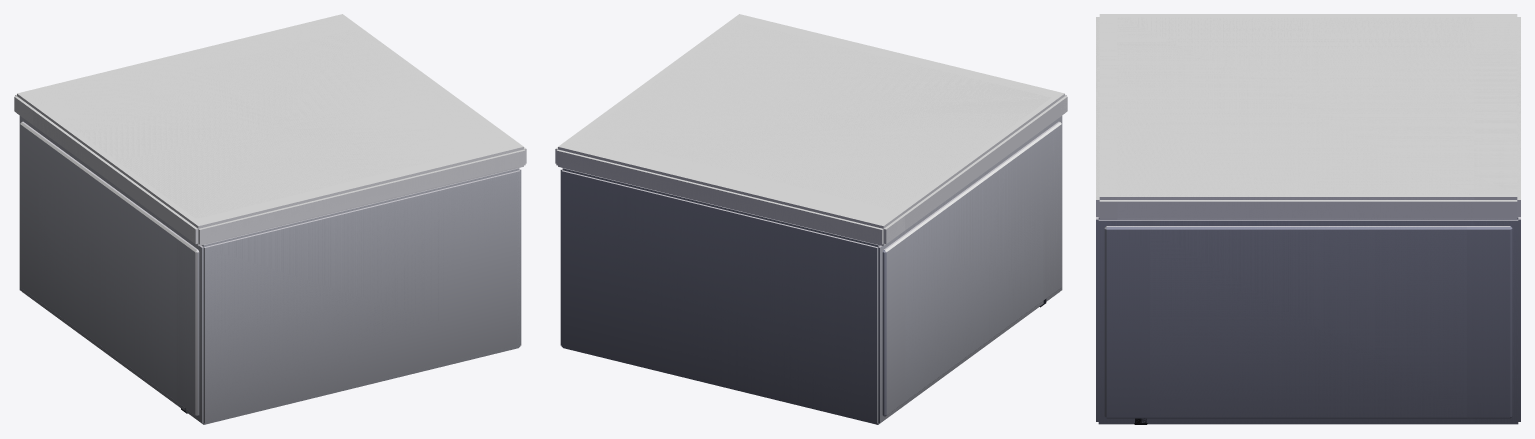
The model's file is counter_center_set.glb.
3 renders of one model, left to right at view 1: azimuth 30°, elevation 25°; view 2: azimuth 150°, elevation 25°; view 3: azimuth 270°, elevation 25°, orthographic. The views are drawn at different scales.
Visible parts, largest first — view 1: m8, m0, m1, m4, m9, m3, m5, m11, m10, m7, m2, m12 (+4 smaller); view 2: m4, m0, m5, m1, m8, m6, m7, m3, m2, m12, m14, m15 (+4 smaller); view 3: m0, m4, m2, m8, m3, m6, m12, m7, m10, m1, m11, m14 (+4 smaller).
Part boxes in pixels (x1,y1,x2,y2): m8: [33, 36, 526, 420]; m0: [33, 28, 441, 401]; m1: [38, 28, 443, 413]; m4: [14, 14, 498, 401]; m9: [38, 54, 523, 424]; m3: [65, 30, 455, 218]; m5: [19, 14, 498, 407]; m11: [44, 31, 520, 424]; m10: [39, 41, 521, 423]; m7: [23, 17, 486, 217]; m2: [90, 29, 437, 219]; m12: [14, 15, 524, 413]; m4: [555, 20, 1042, 420]; m0: [584, 20, 1059, 401]; m5: [556, 20, 976, 424]; m1: [610, 20, 1050, 356]; m8: [701, 14, 1067, 399]; m6: [560, 22, 949, 424]; m7: [561, 22, 916, 423]; m3: [601, 23, 1050, 208]; m2: [592, 21, 1053, 211]; m12: [557, 15, 1066, 414]; m14: [570, 16, 1061, 244]; m15: [567, 17, 1055, 237]; m0: [1117, 14, 1474, 418]; m4: [1117, 14, 1520, 418]; m2: [1117, 14, 1475, 424]; m8: [1096, 14, 1474, 418]; m3: [1117, 17, 1474, 193]; m6: [1117, 14, 1520, 424]; m12: [1099, 14, 1517, 418]; m7: [1117, 17, 1520, 196]; m10: [1096, 14, 1474, 424]; m1: [1117, 17, 1474, 220]; m11: [1096, 17, 1474, 196]; m14: [1098, 14, 1518, 424].
Size of the model in its own units: 1.04 by 0.6 by 1.
